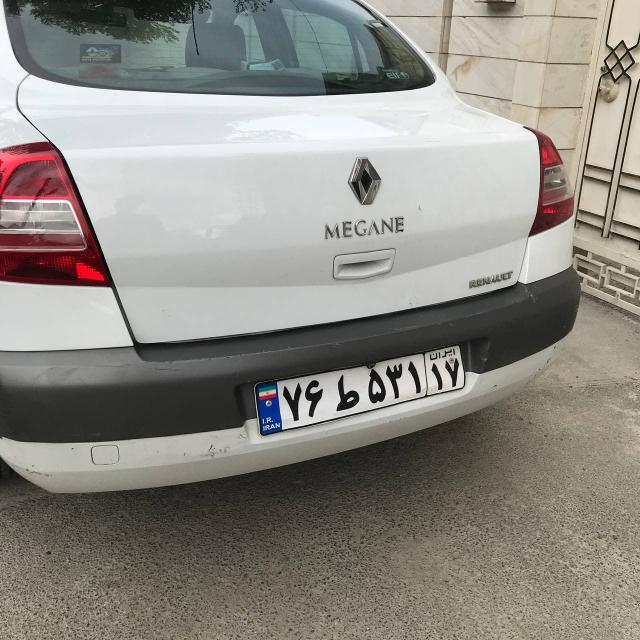Plates: (248, 335, 469, 436)
